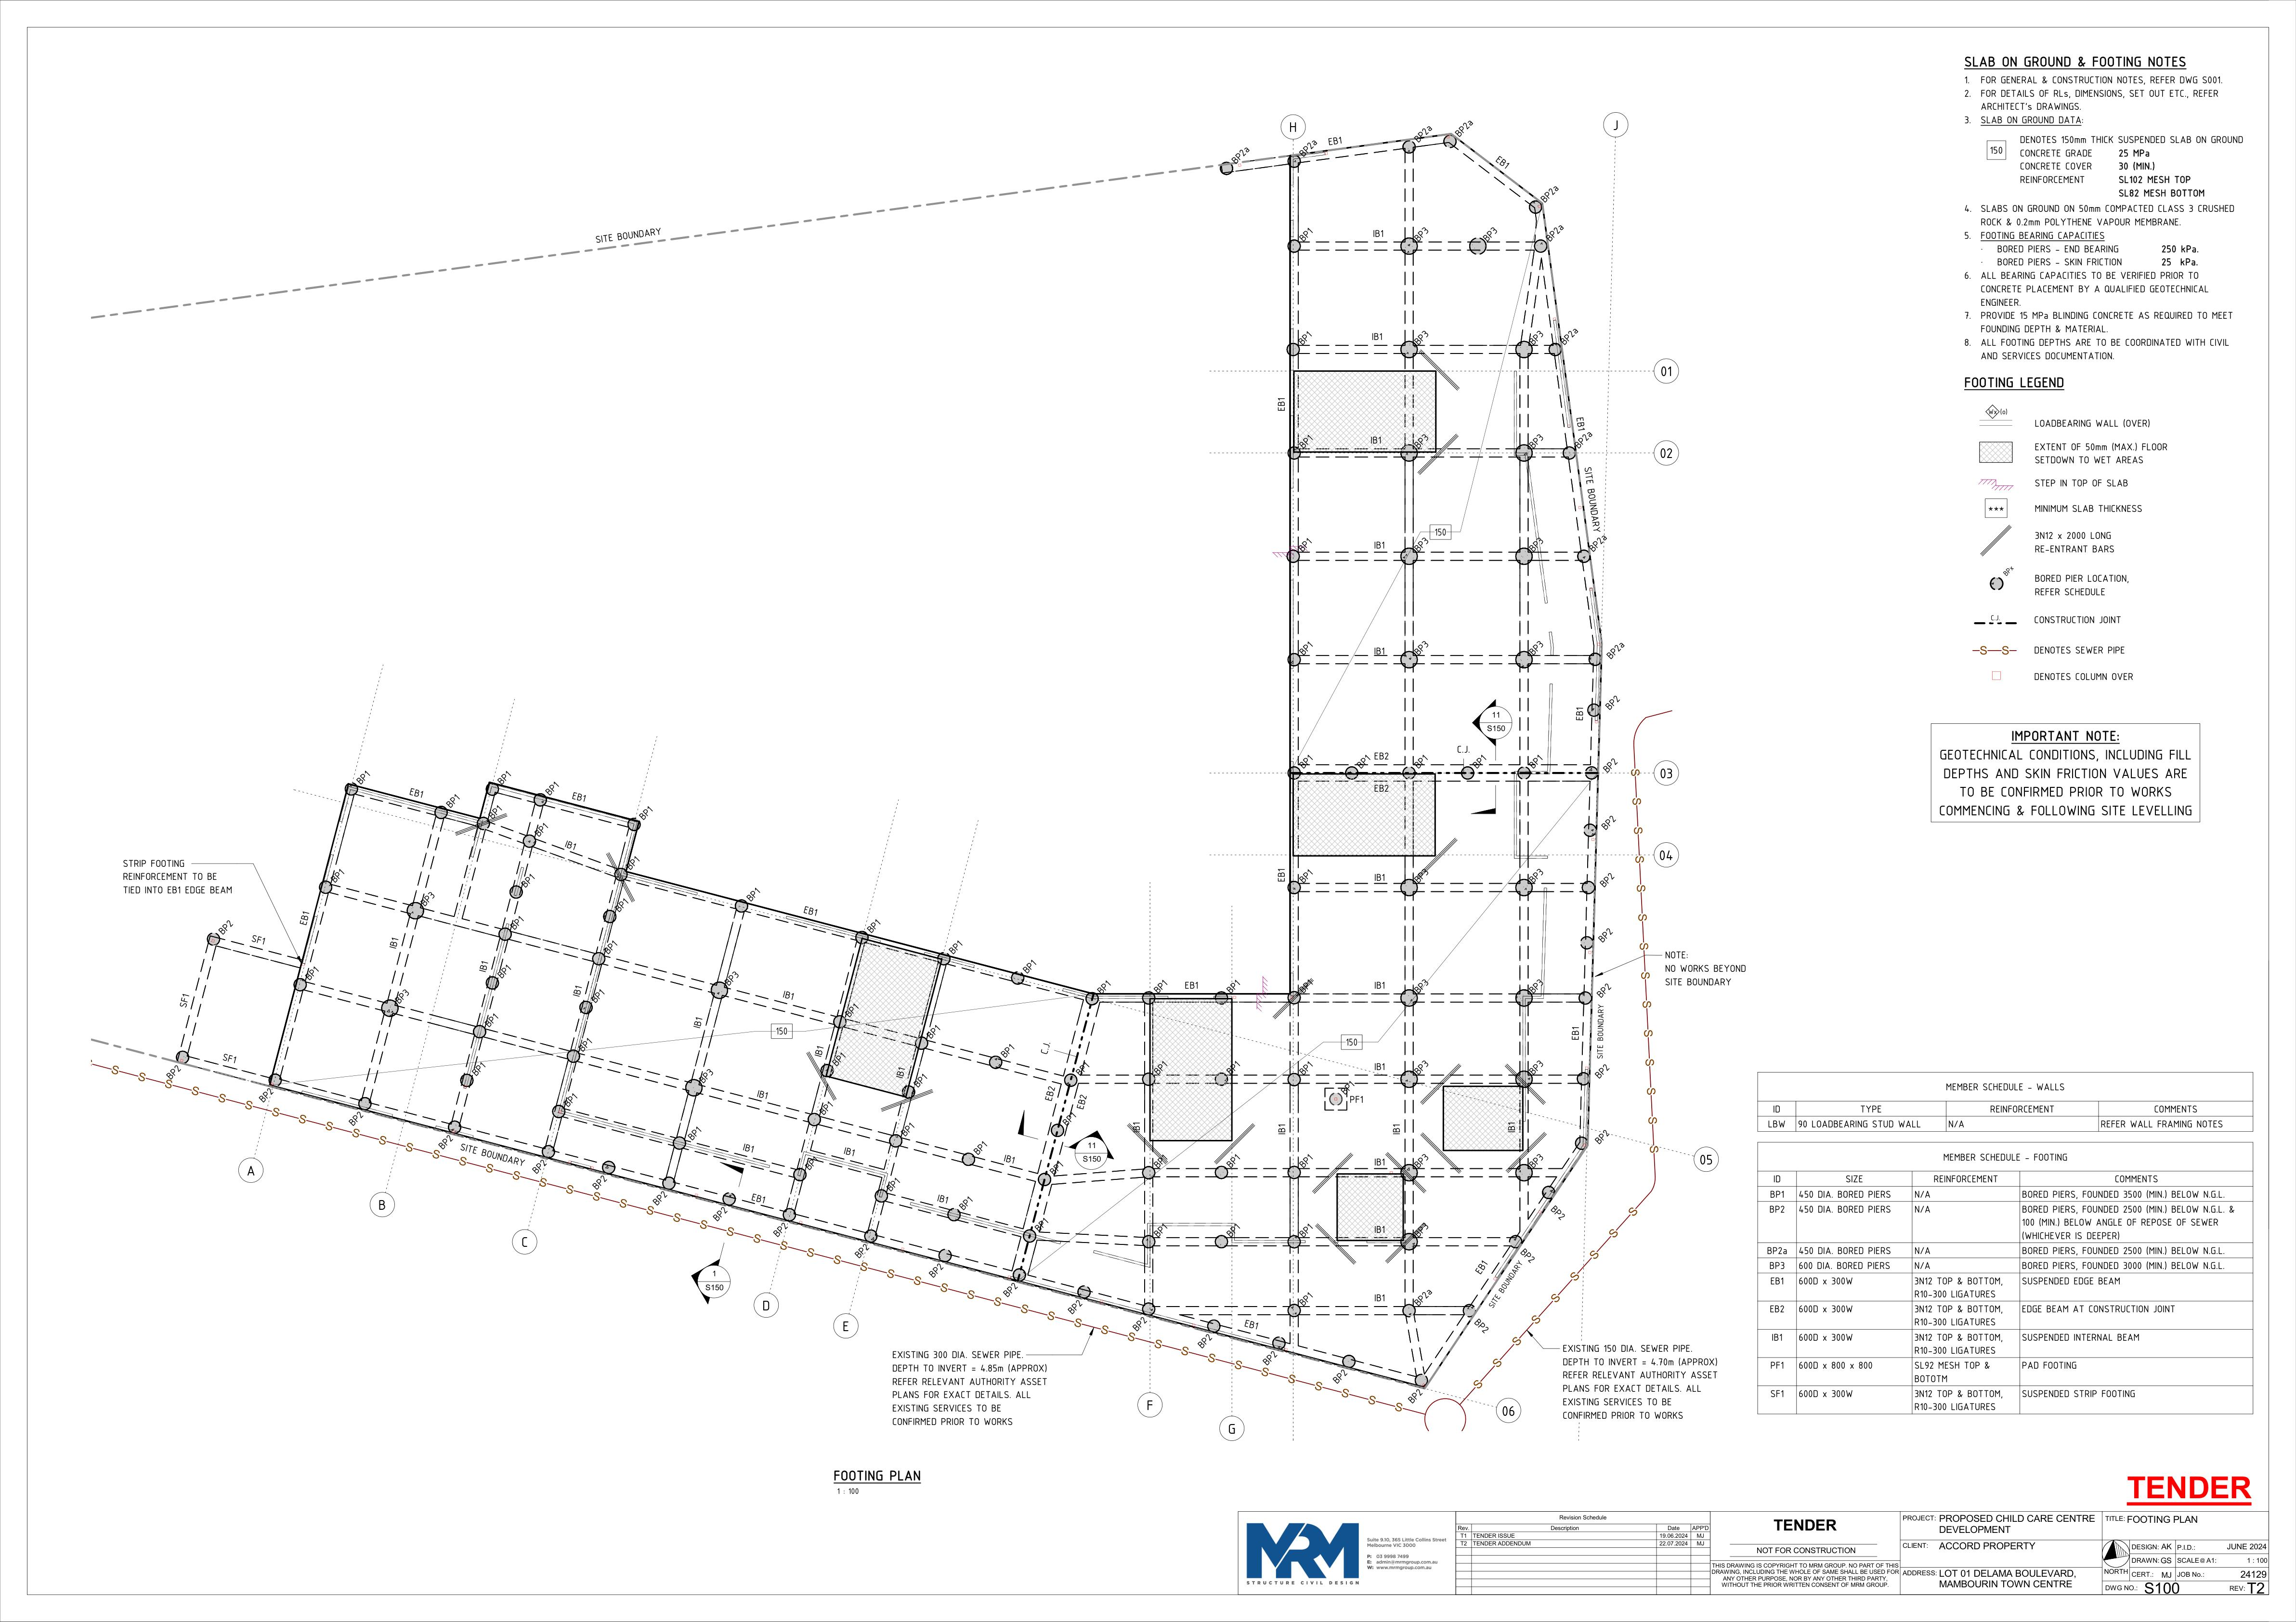BP1: (1297, 974, 1324, 999), (734, 885, 762, 908), (1016, 953, 1041, 978), (1094, 974, 1115, 1002), (1148, 1222, 1180, 1239), (491, 769, 514, 788), (597, 937, 623, 953), (635, 800, 655, 822), (967, 1139, 988, 1159), (611, 895, 634, 913), (995, 1043, 1018, 1060), (1048, 1155, 1065, 1178), (1301, 430, 1318, 453), (864, 916, 883, 936), (683, 1123, 702, 1143), (1073, 1059, 1092, 1078), (1297, 1288, 1317, 1308), (1294, 534, 1313, 553), (560, 1092, 581, 1109), (885, 1176, 906, 1194), (1223, 978, 1245, 995), (1220, 1220, 1241, 1238), (1297, 755, 1315, 776), (1295, 869, 1318, 885), (353, 767, 372, 785), (802, 1152, 820, 1171), (909, 1071, 929, 1088), (1060, 1109, 1078, 1129), (1152, 980, 1171, 997), (1301, 223, 1318, 242), (1295, 637, 1315, 655), (1525, 751, 1545, 769), (943, 941, 964, 957), (1299, 328, 1315, 349), (590, 987, 607, 1004), (470, 1059, 488, 1076), (481, 1009, 499, 1027), (957, 1192, 974, 1209), (1415, 751, 1432, 769), (442, 793, 462, 809), (1225, 1155, 1245, 1171), (1223, 1062, 1245, 1076), (1152, 1153, 1173, 1167), (544, 781, 562, 797), (627, 855, 644, 871), (818, 1101, 836, 1116), (1032, 1215, 1048, 1232), (1299, 1059, 1317, 1074), (899, 1123, 918, 1138), (300, 971, 321, 983), (1471, 757, 1492, 769), (511, 915, 527, 930), (925, 1023, 941, 1039), (1297, 1222, 1313, 1238), (576, 1037, 593, 1051), (537, 822, 549, 841), (1336, 1080, 1355, 1092), (328, 869, 344, 883), (1155, 1059, 1169, 1074), (495, 965, 513, 978), (521, 872, 535, 886), (1353, 753, 1367, 767), (1299, 1152, 1311, 1166), (491, 804, 502, 820)
BP2: (920, 1257, 951, 1283), (1592, 974, 1617, 1002), (1122, 1311, 1146, 1334), (432, 1130, 458, 1152), (646, 1190, 669, 1213), (1590, 1123, 1613, 1146), (771, 1224, 795, 1245), (1590, 927, 1618, 944), (528, 1155, 548, 1180), (1604, 755, 1625, 776), (706, 1204, 728, 1224), (1599, 809, 1617, 834), (1403, 1385, 1424, 1404), (1473, 1315, 1492, 1336), (1596, 872, 1617, 892), (1596, 1059, 1613, 1081), (256, 1085, 276, 1104), (216, 915, 233, 936), (1060, 1297, 1081, 1315), (1552, 1206, 1573, 1224), (161, 1064, 184, 1080), (1195, 1332, 1213, 1352), (1331, 1369, 1350, 1387), (1606, 692, 1624, 711), (346, 1111, 367, 1127), (588, 1174, 606, 1192), (1001, 1281, 1018, 1299), (1520, 1246, 1538, 1264), (1264, 1350, 1280, 1369), (851, 1239, 865, 1257)
BP2A: (1569, 432, 1604, 456), (1225, 144, 1259, 165), (1453, 116, 1483, 139), (1408, 125, 1439, 144), (1561, 323, 1585, 348), (1538, 184, 1566, 204), (1604, 641, 1629, 662), (1546, 221, 1568, 242), (1587, 535, 1611, 551), (1413, 1290, 1436, 1306), (1294, 140, 1318, 154)
BP3: (1525, 534, 1548, 556), (1482, 225, 1503, 249), (1527, 430, 1548, 451), (1415, 865, 1438, 885), (1524, 867, 1546, 886), (1524, 1057, 1546, 1076), (1527, 634, 1545, 657), (1527, 976, 1548, 994), (390, 988, 413, 1004), (1411, 1224, 1434, 1239), (1413, 535, 1432, 553), (720, 971, 743, 985), (418, 892, 437, 908), (1413, 332, 1432, 348), (1415, 226, 1434, 242), (1527, 332, 1545, 348), (1413, 1153, 1431, 1169), (1529, 1155, 1546, 1171), (1413, 434, 1429, 449), (1411, 641, 1429, 655), (1413, 1060, 1431, 1074), (1413, 981, 1431, 992)
EB1: (1490, 151, 1513, 176), (1467, 1257, 1490, 1278), (400, 785, 427, 800), (802, 899, 820, 920), (1273, 391, 1287, 416), (1571, 700, 1585, 725), (293, 911, 311, 930), (1245, 1313, 1264, 1331), (1571, 413, 1589, 432), (751, 1188, 771, 1204), (569, 790, 590, 804), (1568, 1020, 1582, 1041), (1329, 137, 1348, 147)
EB2: (1369, 748, 1396, 764), (1041, 1081, 1058, 1102), (1371, 779, 1392, 795), (1076, 1090, 1092, 1111)
IB1: (1364, 867, 1397, 888), (1364, 430, 1390, 453), (927, 1188, 948, 1208), (753, 1085, 772, 1104), (1371, 974, 1392, 992), (1503, 1116, 1524, 1134), (1369, 641, 1392, 657), (1369, 221, 1392, 237), (1269, 1120, 1288, 1138), (383, 932, 400, 950), (1366, 327, 1385, 342), (999, 1150, 1018, 1166), (570, 978, 585, 999), (1367, 1294, 1390, 1306), (892, 1060, 908, 1078), (477, 953, 490, 974), (690, 1013, 706, 1029), (779, 990, 795, 1006), (562, 837, 578, 853), (1369, 535, 1385, 551), (843, 1146, 860, 1160), (1371, 1224, 1388, 1238), (1373, 1057, 1387, 1074), (743, 1141, 758, 1155), (1373, 1155, 1388, 1169), (1130, 1118, 1141, 1138), (1394, 1118, 1403, 1134)
PF1: (1350, 1090, 1369, 1104)
SF1: (246, 930, 270, 948), (218, 1050, 240, 1067), (177, 988, 191, 1011)
